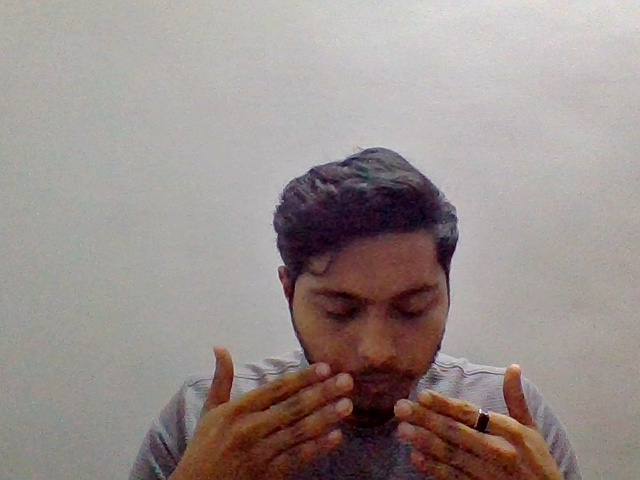Thanks: (171, 342, 569, 480)
